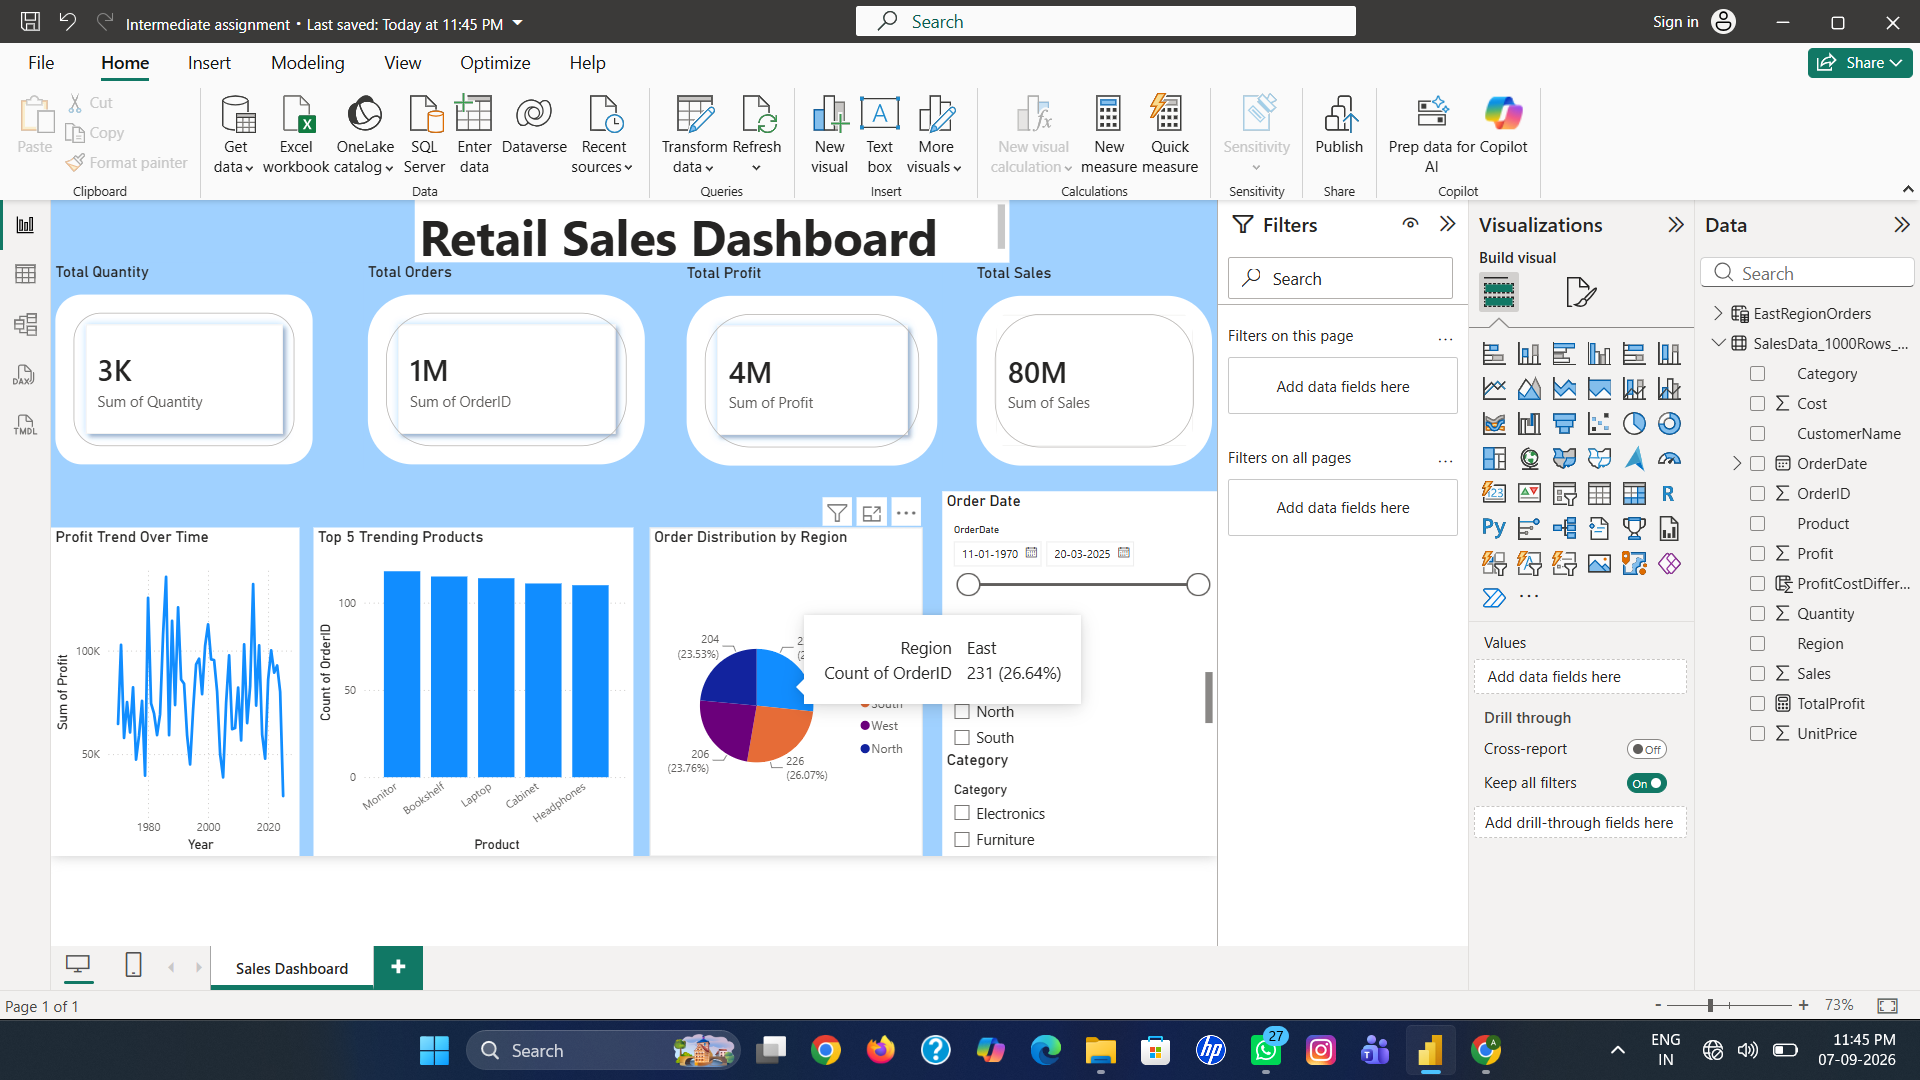

The dashboard page shown, as its layout file describes it:
{"tool":"powerbi","page":{"name":"Sales Dashboard","canvas":[1280,720],"ordinal":0},"visuals":[{"type":"pieChart","title":"Order Distribution by Region","fields":{"Category":["SalesData_1000Rows_WithIssues_copy.Region"],"Y":["CountNonNull(SalesData_1000Rows_WithIssues_copy.OrderID)"]},"box":[657.3,359.5,299.1,360.9],"z":0},{"type":"clusteredColumnChart","title":"Top 5 Trending Products","fields":{"Y":["CountNonNull(SalesData_1000Rows_WithIssues_copy.OrderID)"],"Category":["SalesData_1000Rows_WithIssues_copy.Product"]},"box":[288.2,359.5,351.3,360.9],"z":1000},{"type":"lineChart","title":"Profit Trend Over Time","fields":{"Category":["SalesData_1000Rows_WithIssues_copy.OrderDate.Variation.Date Hierarchy.Year","SalesData_1000Rows_WithIssues_copy.OrderDate.Variation.Date Hierarchy.Quarter","SalesData_1000Rows_WithIssues_copy.OrderDate.Variation.Date Hierarchy.Month","SalesData_1000Rows_WithIssues_copy.OrderDate.Variation.Date Hierarchy.Day"],"Y":["Sum(SalesData_1000Rows_WithIssues_copy.Profit)"]},"box":[0,359.5,273.1,360.9],"z":2000},{"type":"textbox","box":[399.3,0,653.2,68.6],"z":2001},{"type":"cardVisual","title":"Total Sales","fields":{"Data":["Sum(SalesData_1000Rows_WithIssues_copy.Sales)"]},"box":[1011.3,70,269,226.4],"z":2002},{"type":"cardVisual","title":"Total Profit","fields":{"Data":["Sum(SalesData_1000Rows_WithIssues_copy.Profit)"]},"box":[693,70,285.4,226.4],"z":2003},{"type":"cardVisual","title":"Total Orders","fields":{"Data":["Sum(SalesData_1000Rows_WithIssues_copy.OrderID)"]},"box":[343.1,68.6,314.2,226.4],"z":2004},{"type":"cardVisual","title":"Total Quantity","fields":{"Data":["Sum(SalesData_1000Rows_WithIssues_copy.Quantity)"]},"box":[0,68.6,292.3,226.4],"z":2005},{"type":"slicer","title":"Region","fields":{"Values":["SalesData_1000Rows_WithIssues_copy.Region"]},"box":[978.4,463.8,301.9,140],"z":2006},{"type":"slicer","title":"Category","fields":{"Values":["SalesData_1000Rows_WithIssues_copy.Category"]},"box":[978.4,603.8,301.9,116.6],"z":2007},{"type":"slicer","title":"Order Date","fields":{"Values":["SalesData_1000Rows_WithIssues_copy.OrderDate"]},"box":[978.4,319.7,301.9,144.1],"z":2008}]}

Visuals, with their boxes on the page's 1280x720 design canvas (x1, y1, x2, y2). These are canvas units, not pixel positions in the 1920x1080 screenshot, which may show the page scaled, cropped or inside an application window:
"Order Distribution by Region" pieChart: 657 360 956 720
"Top 5 Trending Products" clusteredColumnChart: 288 360 640 720
"Profit Trend Over Time" lineChart: 0 360 273 720
textbox: 399 0 1052 69
"Total Sales" cardVisual: 1011 70 1280 296
"Total Profit" cardVisual: 693 70 978 296
"Total Orders" cardVisual: 343 69 657 295
"Total Quantity" cardVisual: 0 69 292 295
"Region" slicer: 978 464 1280 604
"Category" slicer: 978 604 1280 720
"Order Date" slicer: 978 320 1280 464
